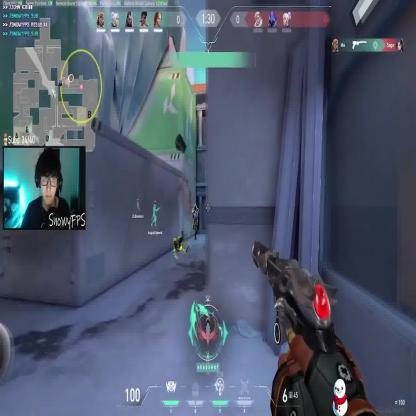enemy: (191, 202, 199, 240)
enemy_head: (193, 203, 197, 209)
